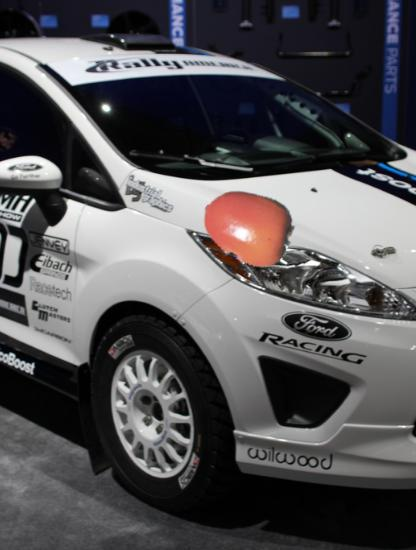Kaki: (203, 179, 295, 271)
